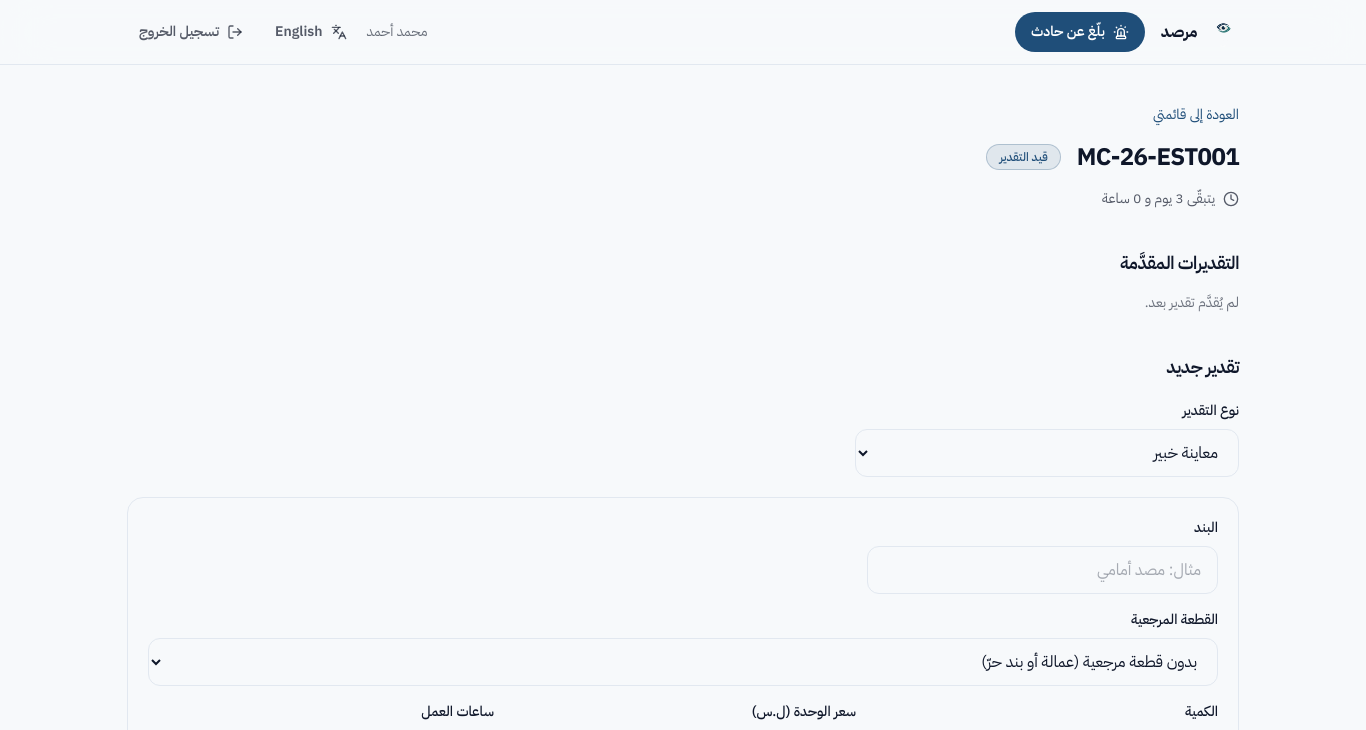
Test: the estimate builder › shows the reference price for the chosen part
Select "مصد أمامي" in the dropdown labelled "القطعة المرجعية": (683, 662) [148, 638, 1218, 686]
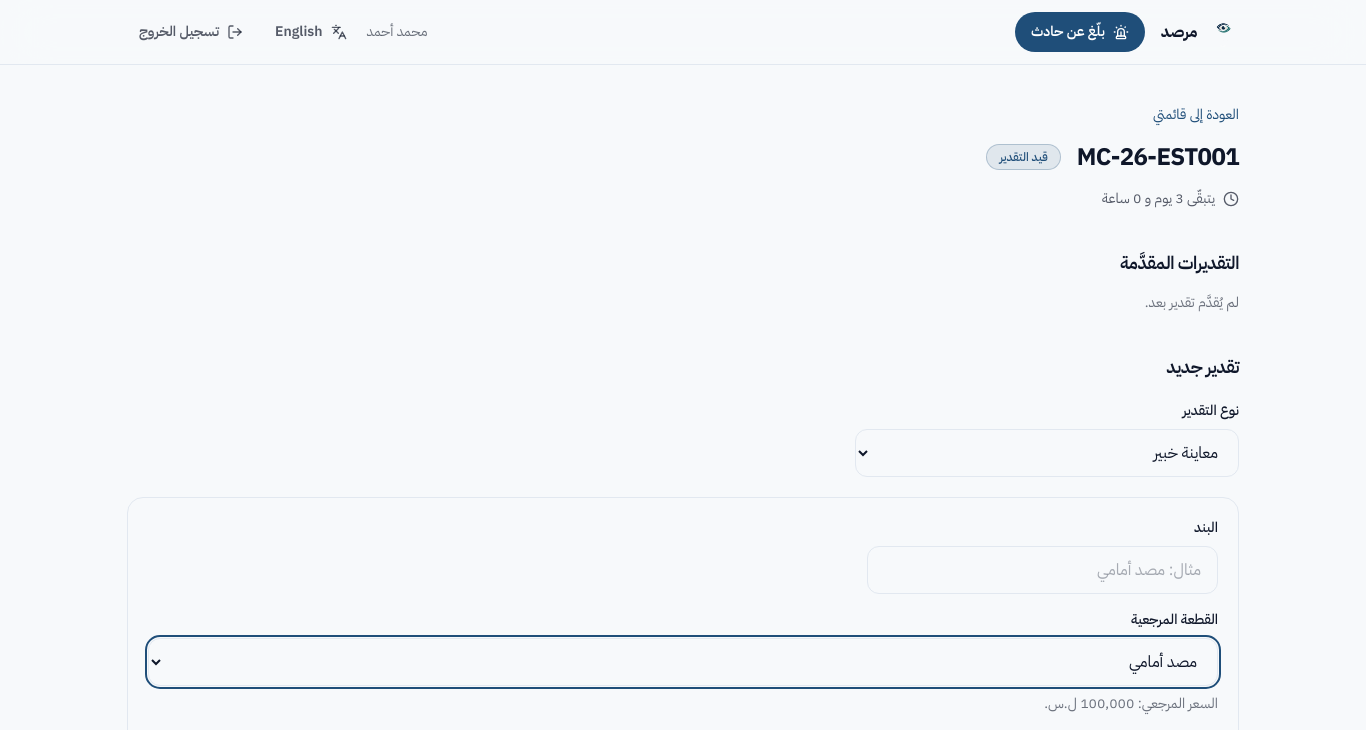
Result: the text "السعر المرجعي: 100,000 ل.س." is shown at [1044, 693, 1218, 714]
